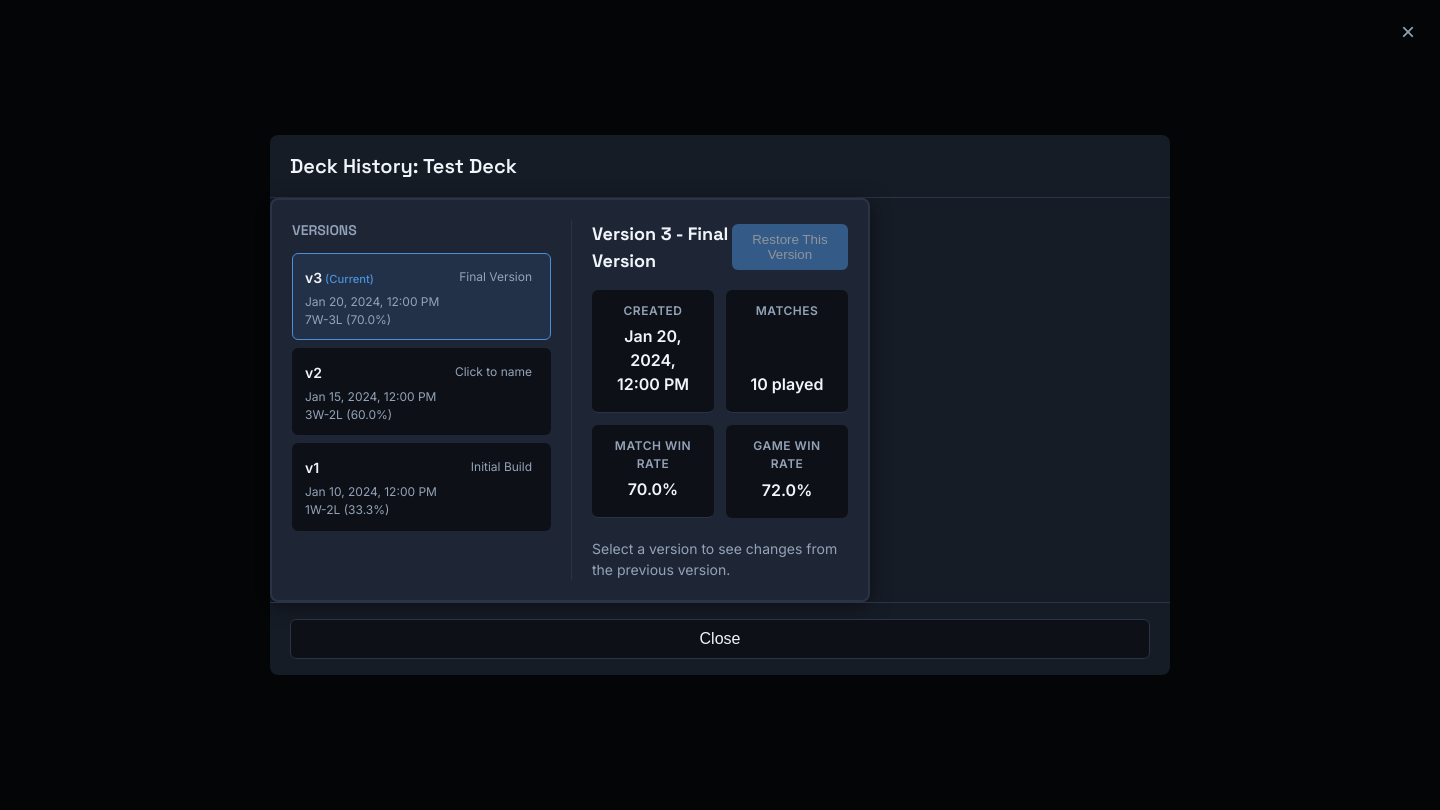
it: DeckHistoryModal › should enable restore button for non-current permutation
Expected: the text "v2" is shown, [305,362,322,383]
Click the text "v2" at (422, 392), box [292,348,551,435]
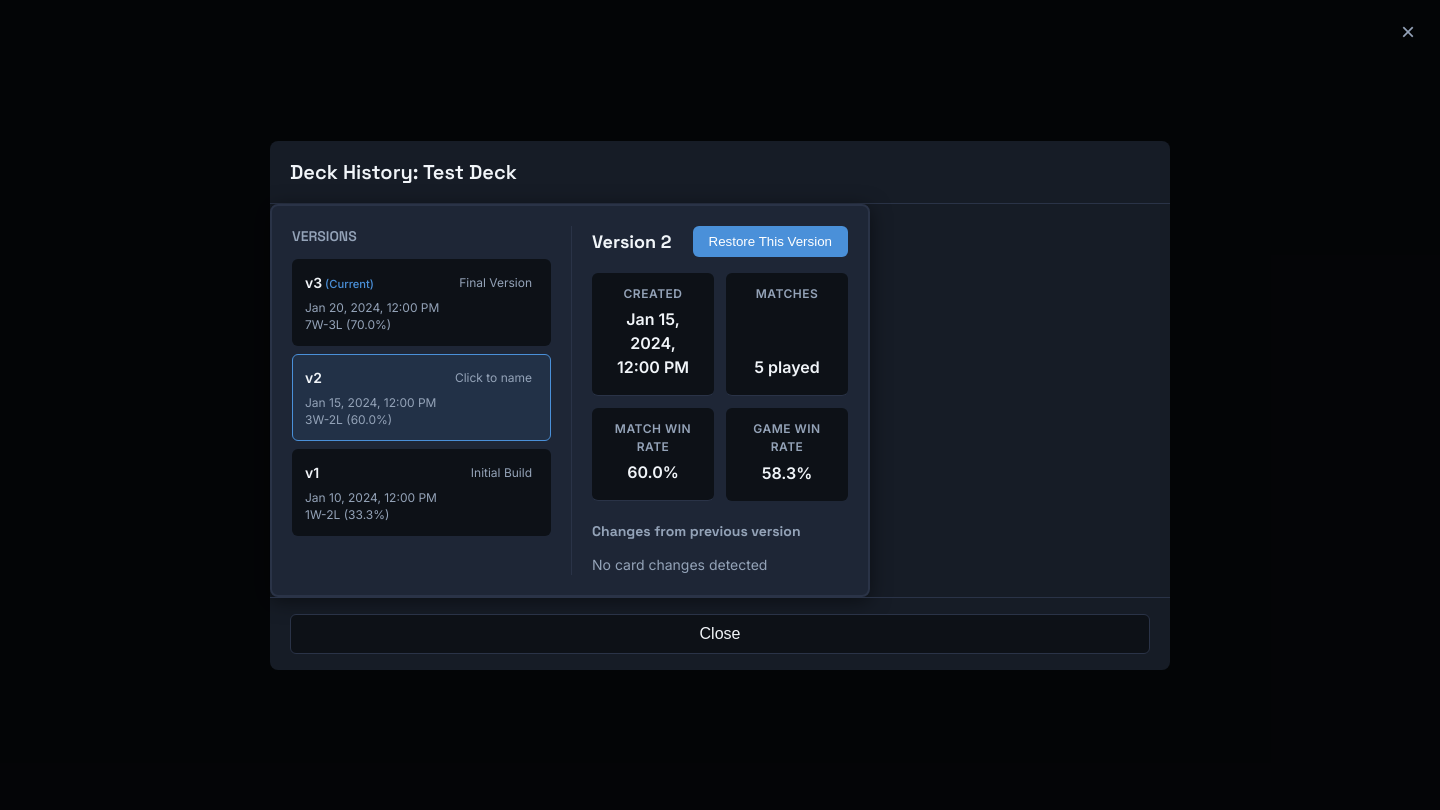
Expected: the button "Restore This Version" is enabled, [692,226,848,256]
